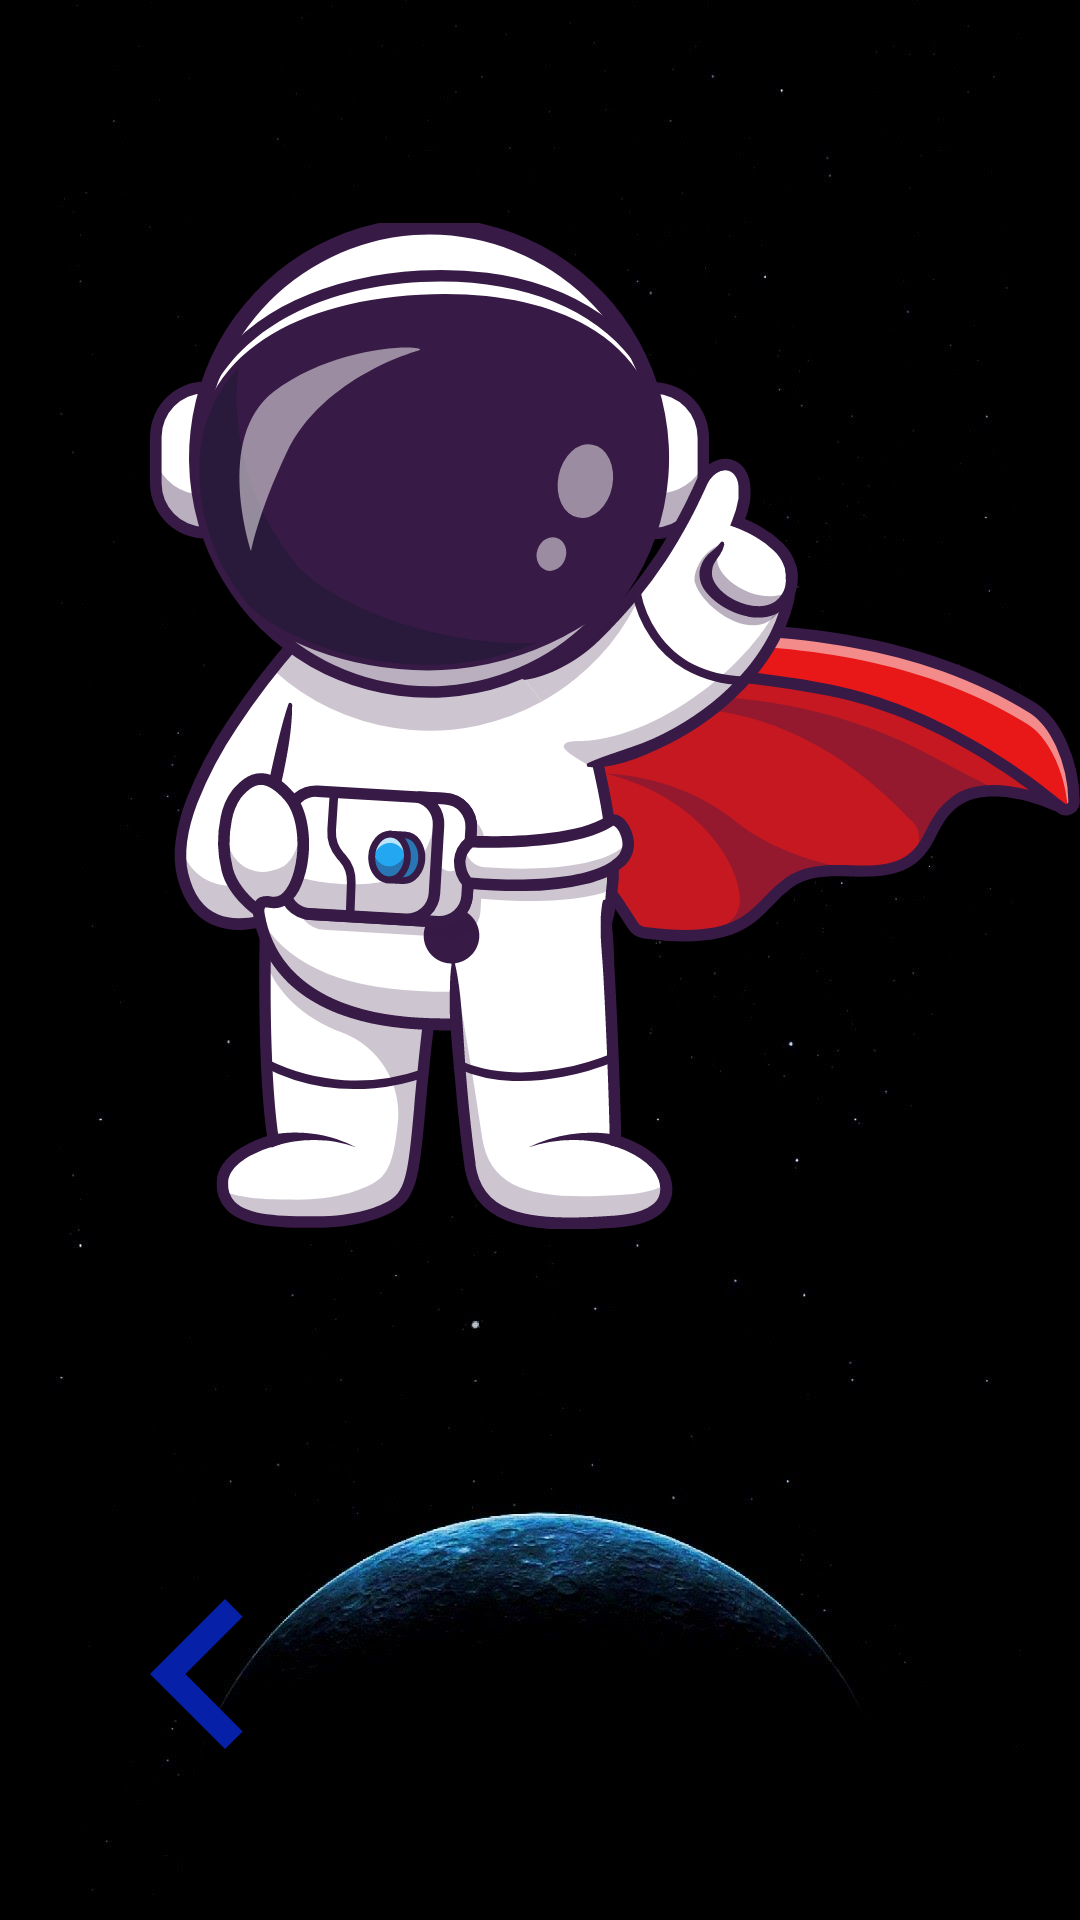

Screen size 1080 × 1920. Icon name, then its center in pixels as [x,y]:
left: [245,1672]
